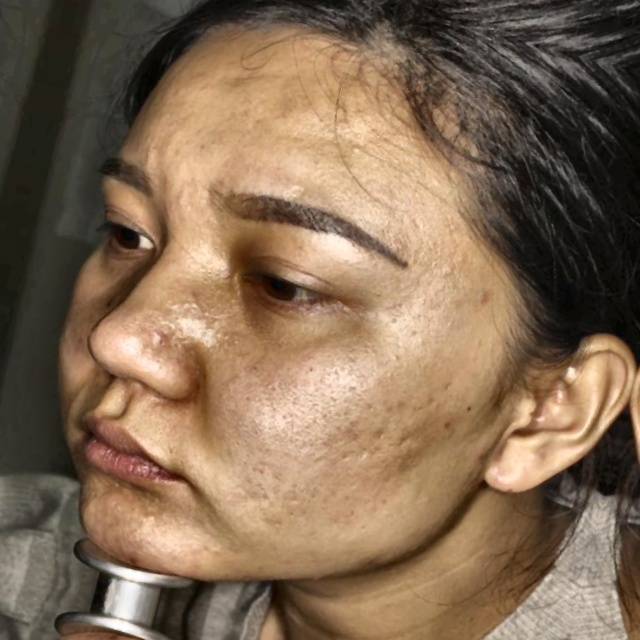comedone: (464, 284, 496, 318)
